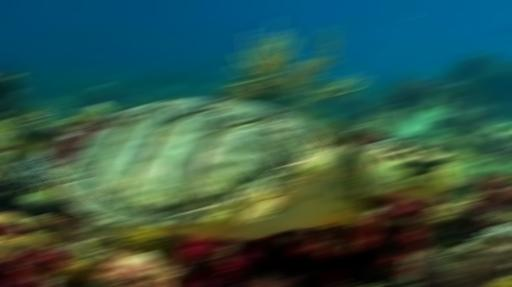Fish: (9, 99, 460, 239)
